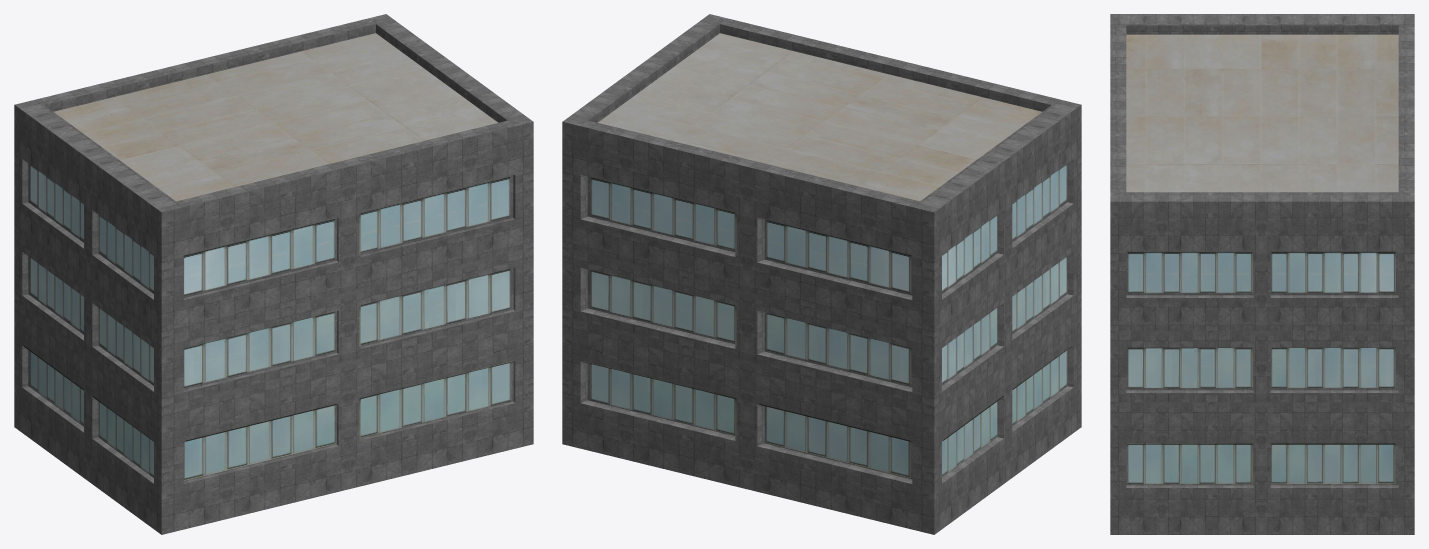
File: Pizza_Delivery house15_4.fbx
The picture shows the model from 3 angles, left to right: view 1: azimuth 30°, elevation 25°; view 2: azimuth 150°, elevation 25°; view 3: azimuth 270°, elevation 25°; orthographic projection. The views are drawn at different scales.
Parts seen in each view (by area): view 1: Pizza_Delivery:Pizza_Delivery:house15_4; view 2: Pizza_Delivery:Pizza_Delivery:house15_4; view 3: Pizza_Delivery:Pizza_Delivery:house15_4.
Part boxes in pixels (x1,y1,x2,y2): Pizza_Delivery:Pizza_Delivery:house15_4: (14, 14, 533, 534); Pizza_Delivery:Pizza_Delivery:house15_4: (562, 14, 1081, 534); Pizza_Delivery:Pizza_Delivery:house15_4: (1110, 14, 1414, 534).
Bounding box in the file's own units: 10.16 × 8.42 × 6.97.
